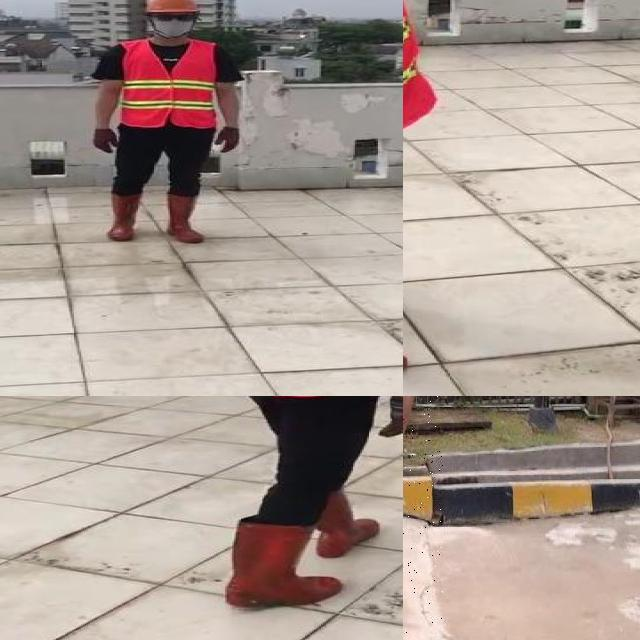boots: (230, 518, 340, 607), (310, 493, 380, 558), (165, 193, 207, 245), (106, 191, 142, 243)
face_mask: (151, 13, 196, 36)
glasses: (152, 11, 198, 23)
hand_glove: (383, 396, 403, 438), (218, 125, 239, 155), (90, 130, 118, 152)
head_helmet: (144, 0, 197, 13)
person: (187, 396, 403, 618), (84, 0, 250, 244), (403, 0, 484, 396)
vest: (122, 40, 216, 128)
